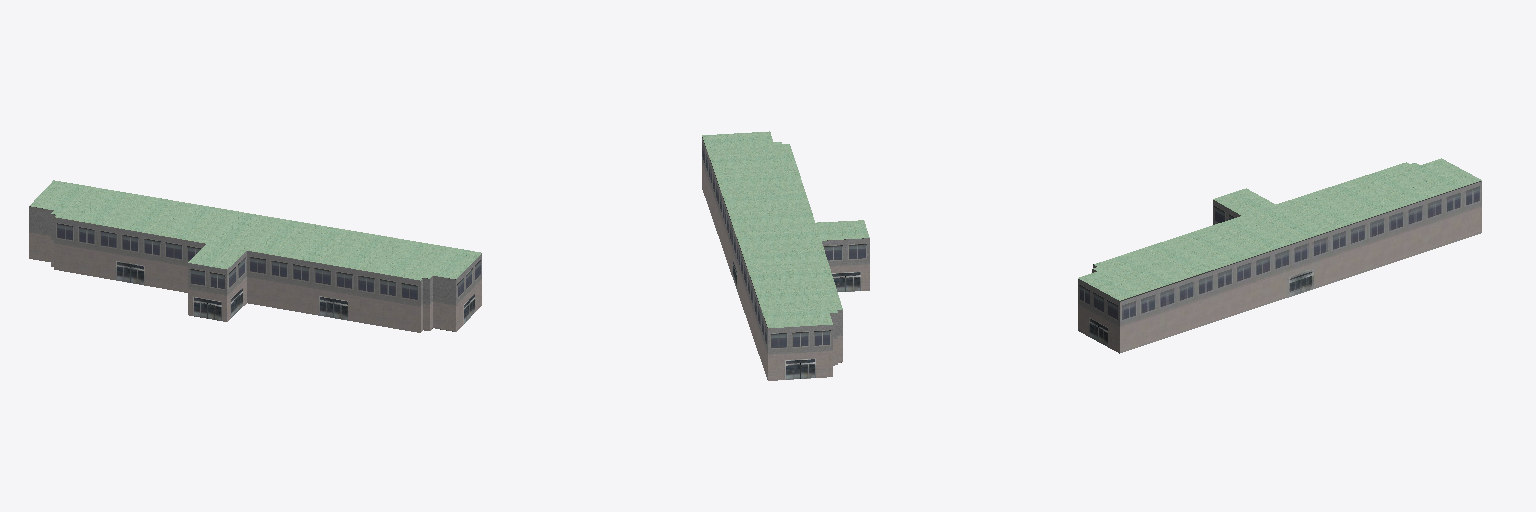
3 views of the same model, side by side, from view 1: azimuth 30°, elevation 25°; view 2: azimuth 150°, elevation 25°; view 3: azimuth 270°, elevation 25° (orthographic).
Parts seen in each view (by area): view 1: BuildingMaster_[number redacted]_0, BuildingMaster_[number redacted]_1; view 2: BuildingMaster_[number redacted]_1, BuildingMaster_[number redacted]_0; view 3: BuildingMaster_[number redacted]_0, BuildingMaster_[number redacted]_1.
Boxes of the visible parts, box(x1,y1,x2,y2) form: BuildingMaster_[number redacted]_0: box(29, 206, 481, 332); BuildingMaster_[number redacted]_1: box(30, 180, 480, 280); BuildingMaster_[number redacted]_1: box(702, 131, 869, 327); BuildingMaster_[number redacted]_0: box(702, 137, 869, 380); BuildingMaster_[number redacted]_0: box(1078, 181, 1481, 353); BuildingMaster_[number redacted]_1: box(1078, 158, 1481, 300).
Bounding box in the file's own units: 40.7 × 7 × 48.81.
Materials: 2 (2 with a texture image).